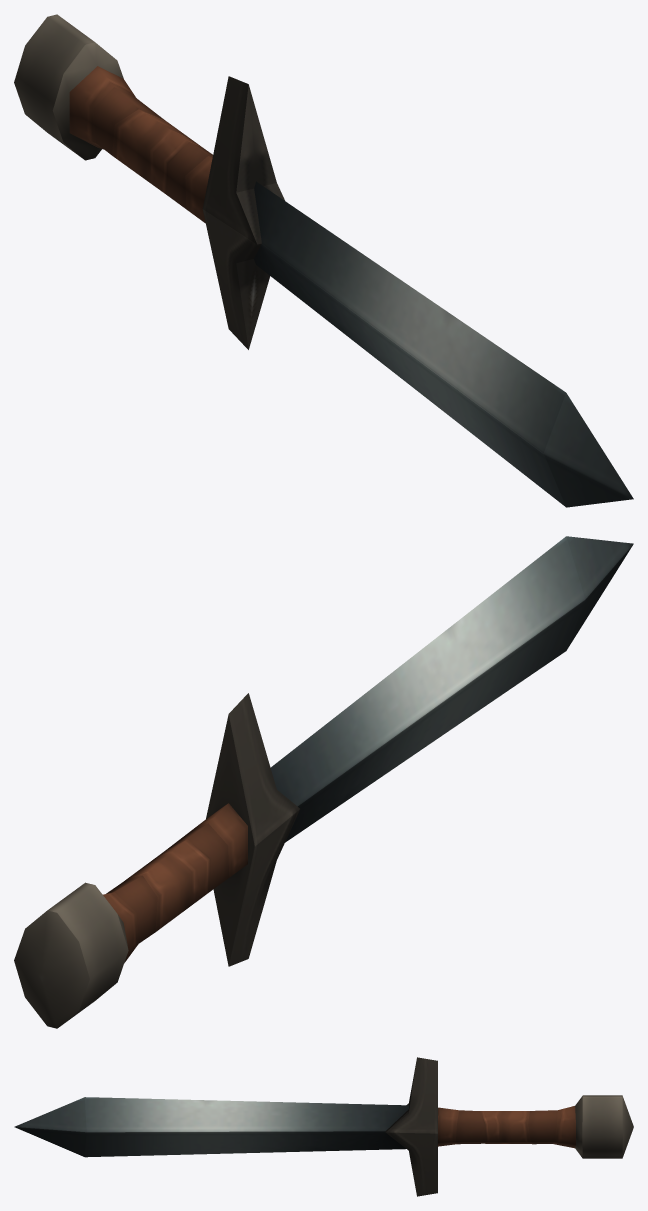
File: A_CA_GEN_Sword_01.fbx
3 views of the same model, one above another, from view 1: azimuth 30°, elevation 25°; view 2: azimuth 150°, elevation 25°; view 3: azimuth 270°, elevation 25° (orthographic). The views are drawn at different scales.
Visible parts, largest first — view 1: A_CA_GEN_Sword_01; view 2: A_CA_GEN_Sword_01; view 3: A_CA_GEN_Sword_01.
Boxes of the visible parts, bbox=[...] form: A_CA_GEN_Sword_01: bbox=[14, 14, 633, 507]; A_CA_GEN_Sword_01: bbox=[14, 536, 633, 1028]; A_CA_GEN_Sword_01: bbox=[14, 1057, 633, 1196].
Bounding box in the file's own units: 37.8 × 127 × 511.
Materials: 1 (1 with a texture image).
